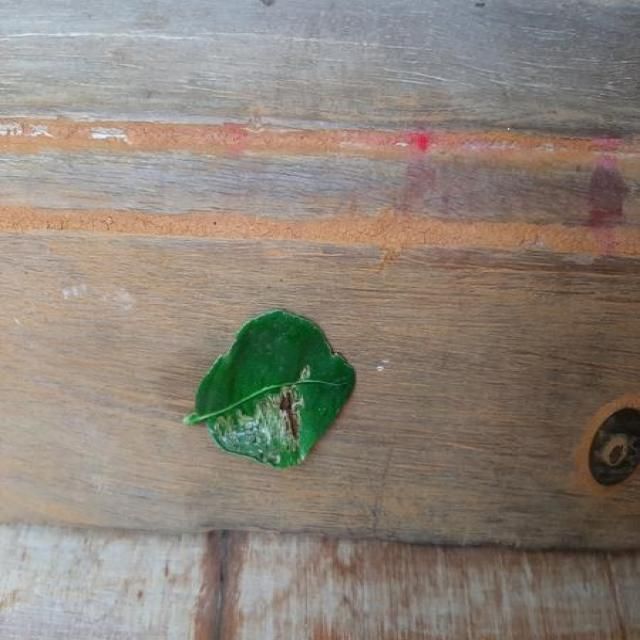lemon: (183, 310, 355, 468)
sooty mould: (207, 386, 315, 468)
